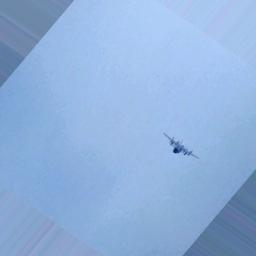Airplane: (162, 130, 199, 159)
